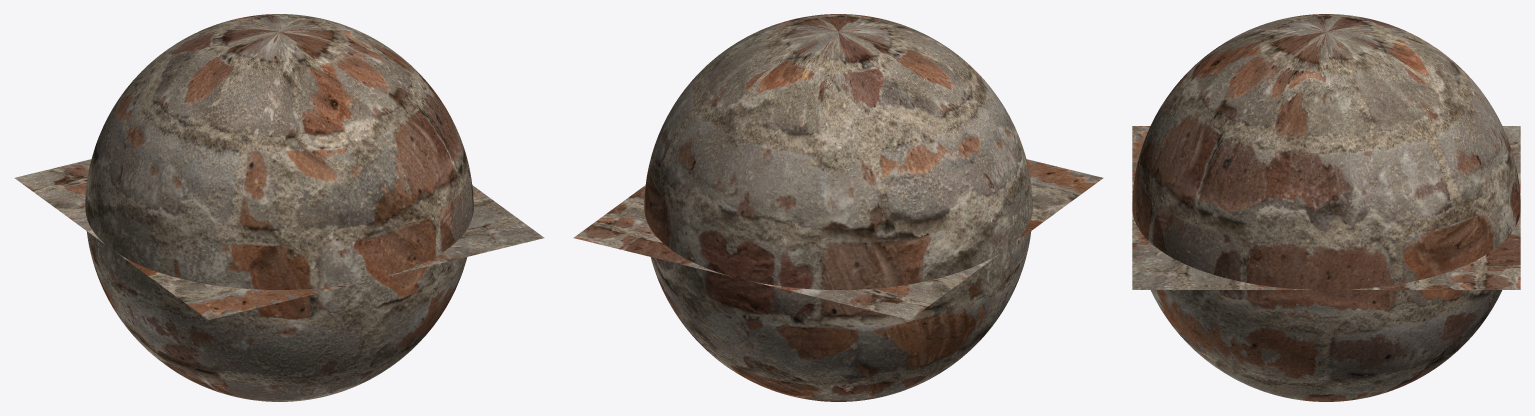
File: wall_bricks_plaster_2k.fbx
3 views of the same model, side by side, from view 1: azimuth 30°, elevation 25°; view 2: azimuth 150°, elevation 25°; view 3: azimuth 270°, elevation 25° (orthographic).
Parts seen in each view (by area): view 1: Sphere, Plane; view 2: Sphere, Plane; view 3: Sphere, Plane.
Part boxes in pixels (box(x1,y1,x2,y2)): Sphere: box(85, 14, 473, 401); Plane: box(14, 159, 544, 319); Sphere: box(644, 14, 1032, 401); Plane: box(573, 159, 1103, 319); Sphere: box(1132, 14, 1520, 401); Plane: box(1132, 126, 1520, 289).
Bounding box in the file's own units: 100 × 100 × 100.
